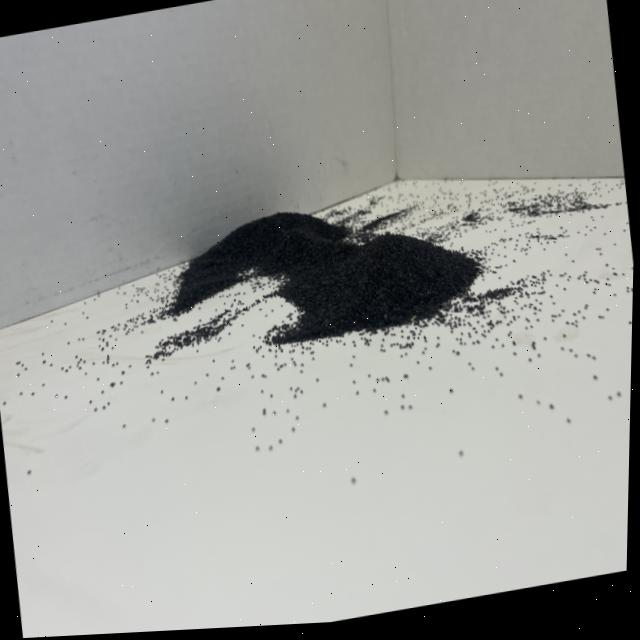Poppy Seeds: (152, 151, 498, 398)
